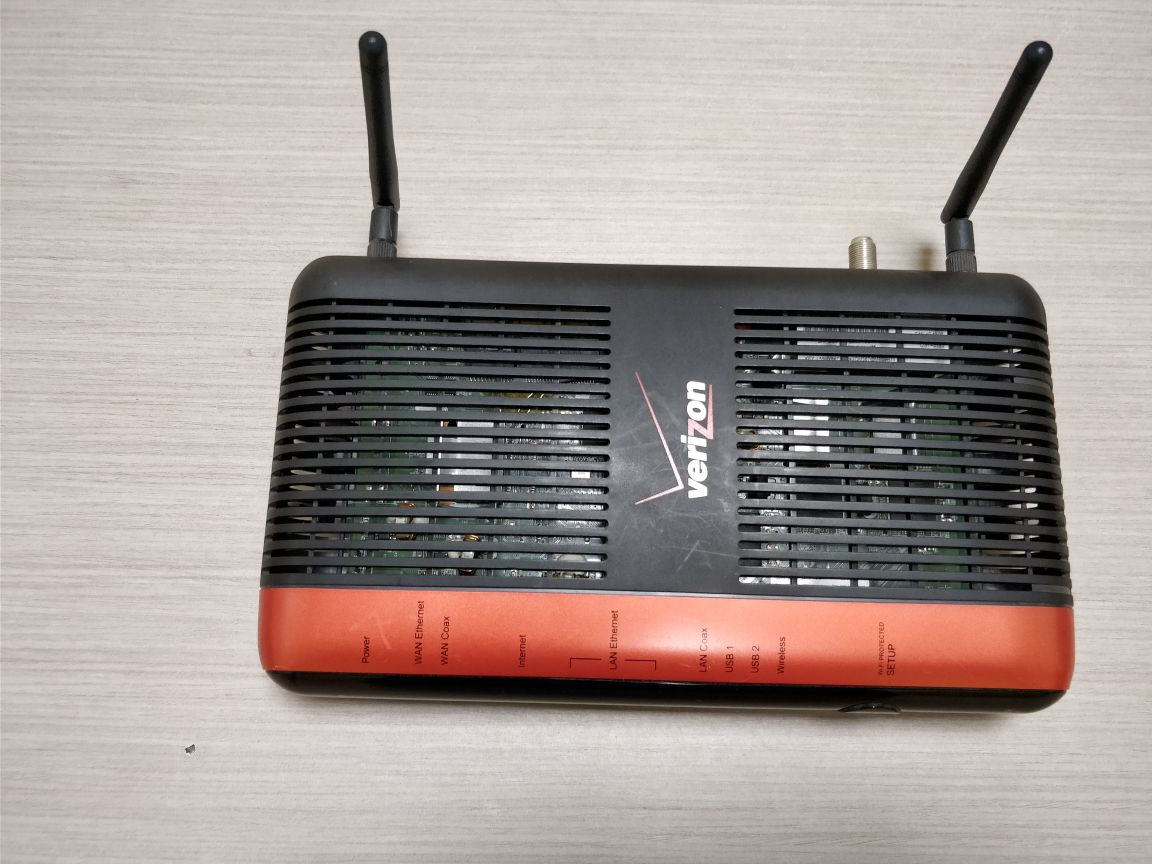Verizon Router: (253, 21, 1098, 748)
